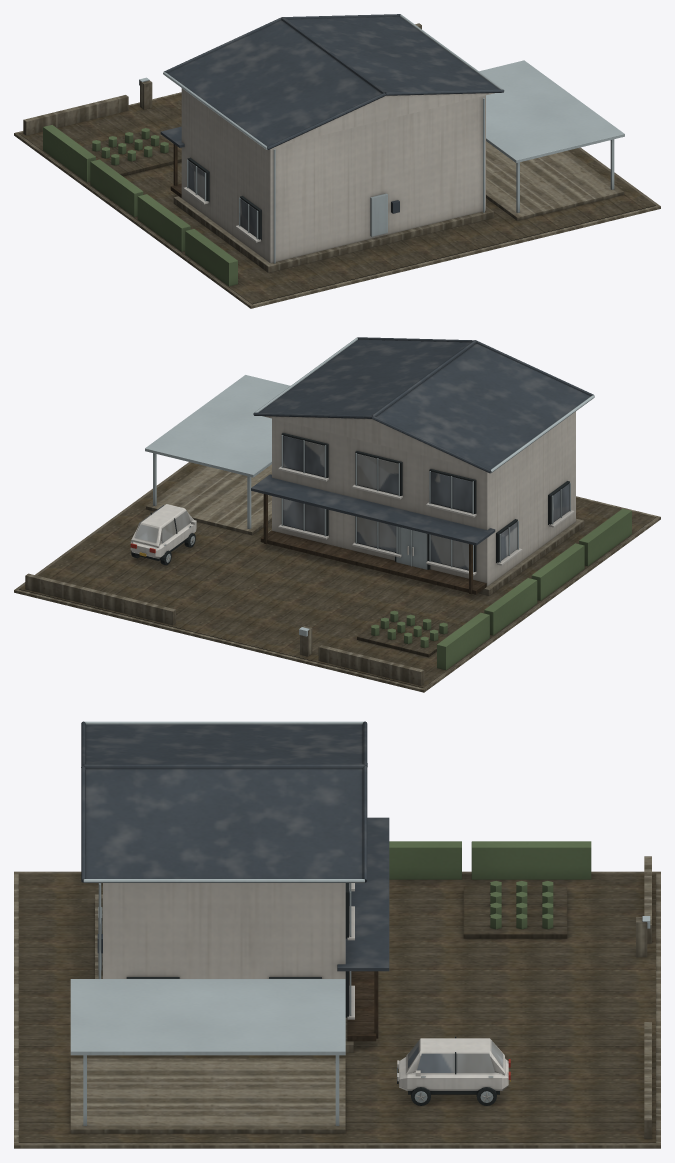
File: rural_house_003.obj
The picture shows the model from 3 angles, top to bottom: view 1: azimuth 30°, elevation 25°; view 2: azimuth 150°, elevation 25°; view 3: azimuth 270°, elevation 25°; orthographic projection. The views are drawn at different scales.
Parts seen in each view (by area): view 1: rural_house_003; view 2: rural_house_003; view 3: rural_house_003.
Part boxes in pixels (<box>): rural_house_003: <box>14,14,660,308</box>; rural_house_003: <box>14,337,660,692</box>; rural_house_003: <box>14,721,660,1148</box>.
Bounding box in the file's own units: 20 × 7.41 × 20.
Materials: 1 (1 with a texture image).
